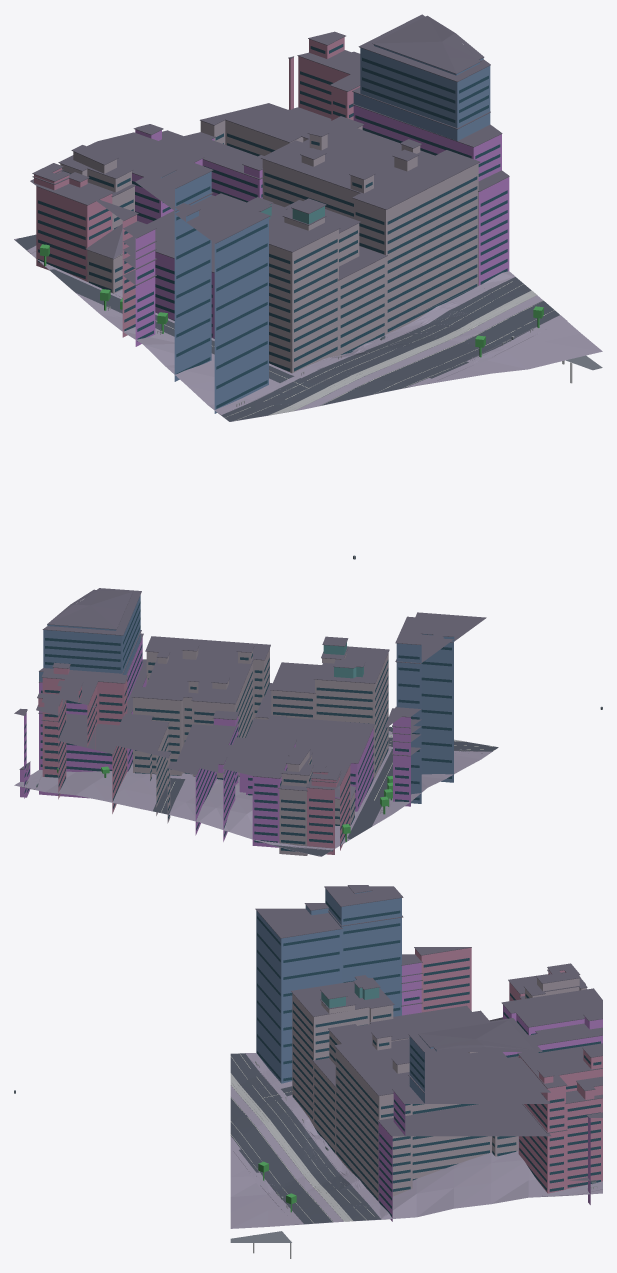
The picture shows the model from 3 angles, top to bottom: view 1: azimuth 30°, elevation 25°; view 2: azimuth 150°, elevation 25°; view 3: azimuth 270°, elevation 25°; orthographic projection. The views are drawn at different scales.
Visible parts, largest first — view 1: compiled-chunk; view 2: compiled-chunk; view 3: compiled-chunk.
Boxes of the visible parts, x1=… form: compiled-chunk: x1=14, y1=14, x2=602, y2=559; compiled-chunk: x1=14, y1=588, x2=602, y2=856; compiled-chunk: x1=14, y1=885, x2=602, y2=1258.
Bounding box in the file's own units: 122 × 77.62 × 190.
